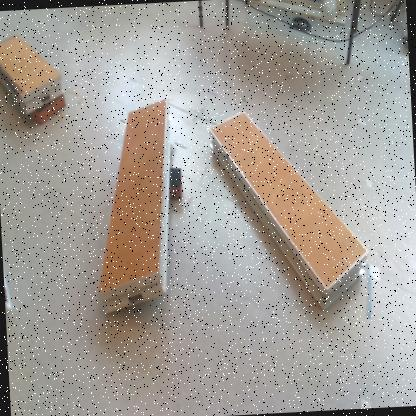Stairs: (209, 112, 369, 311), (99, 98, 173, 314), (1, 37, 64, 114)
